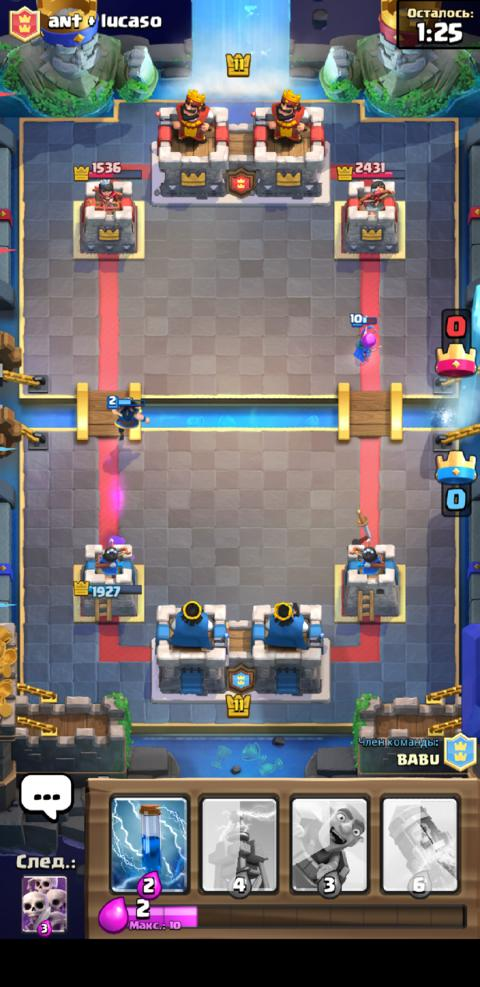ally_archer: (348, 312, 379, 363)
ally_ice_wizard: (105, 394, 150, 442)
